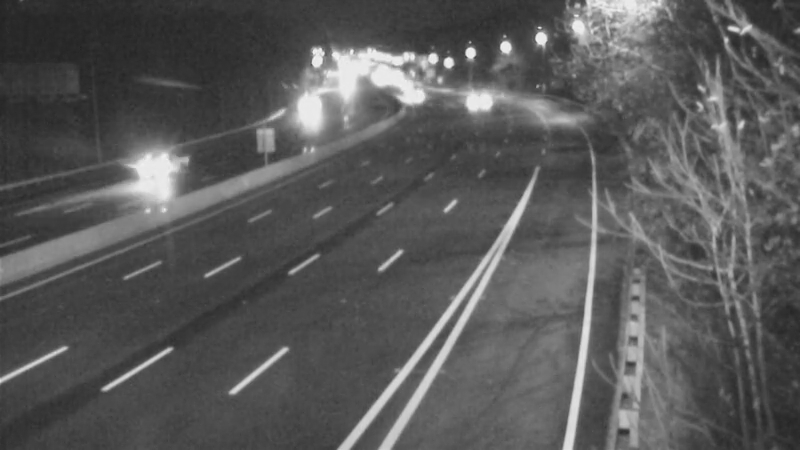vehicle: (112, 132, 192, 212), (385, 71, 435, 121), (447, 78, 497, 128), (284, 86, 334, 136)
